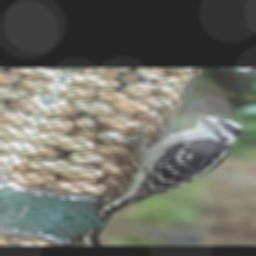Woodpecker: (73, 102, 256, 236)
